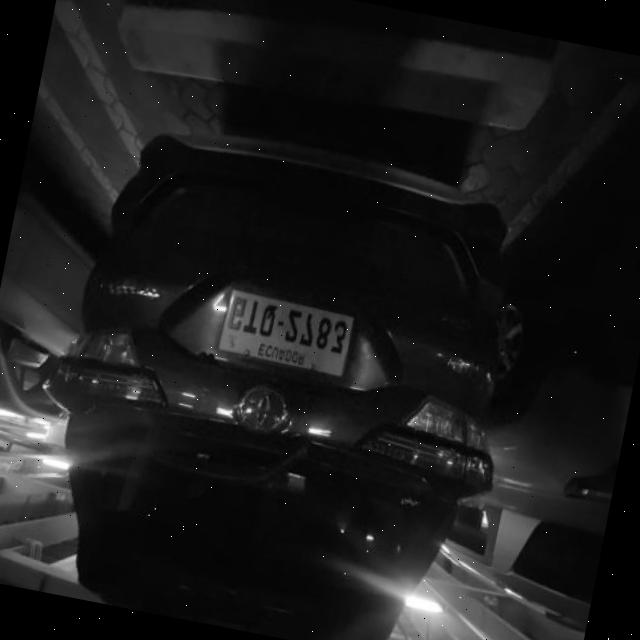Placa: (218, 291, 352, 377)
